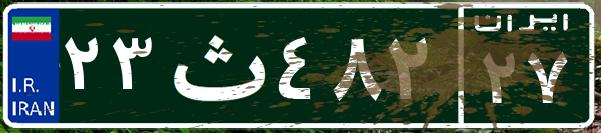2: (385, 28, 445, 110), (57, 26, 110, 107), (475, 38, 525, 113)
3: (110, 28, 158, 105)
4: (273, 28, 330, 110)
7: (525, 38, 570, 115)
8: (330, 28, 385, 110)
ث: (158, 15, 273, 115)
